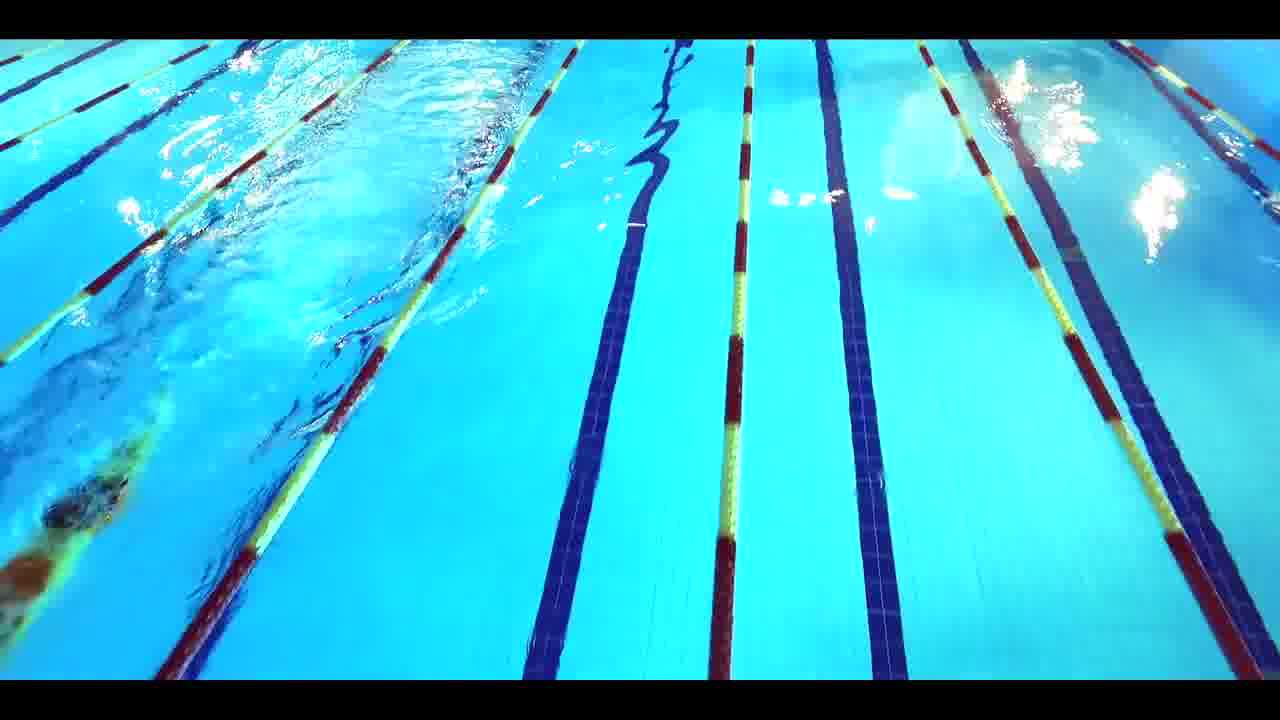swimmer: (0, 378, 212, 643)
